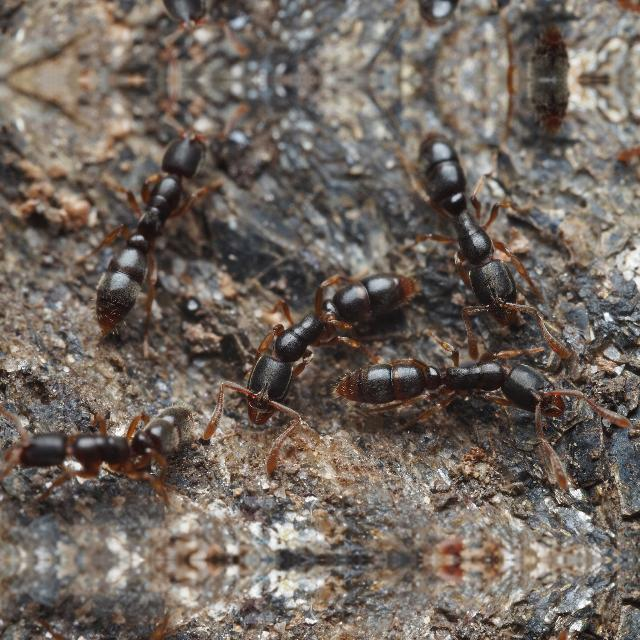Ponera: (200, 238, 430, 424), (77, 108, 255, 346), (406, 96, 576, 338), (350, 327, 600, 447), (0, 377, 208, 517), (406, 0, 576, 62), (77, 0, 255, 50), (0, 602, 208, 640)
